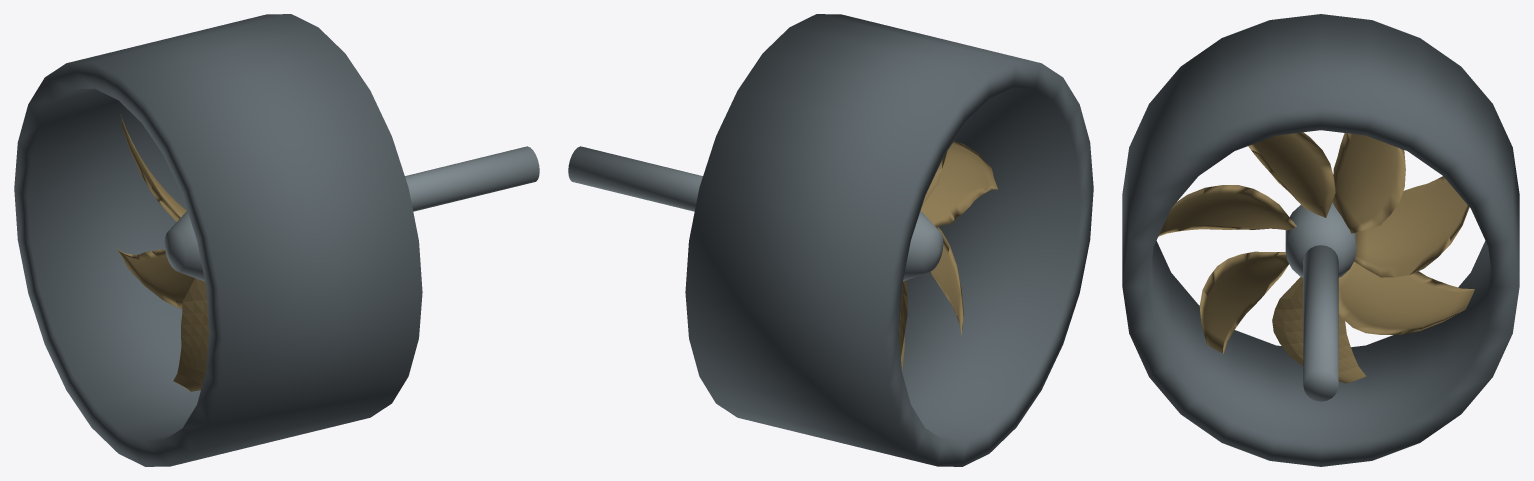
Rendered from RU_PROP_Typhoon_LOD1.fbx.
The picture shows the model from 3 angles, left to right: view 1: azimuth 30°, elevation 25°; view 2: azimuth 150°, elevation 25°; view 3: azimuth 270°, elevation 25°; orthographic projection. The views are drawn at different scales.
Parts seen in each view (by area): view 1: RU_PROP_Typhoon_LOD1_Shroud.001, RU_PROP_Typhoon_LOD1_Shaft.001, RU_PROP_Typhoon_LOD1_Blade_05.001, RU_PROP_Typhoon_LOD1_Blade_06.001, RU_PROP_Typhoon_LOD1_Hub.001, RU_PROP_Typhoon_LOD1_Blade_00.001; view 2: RU_PROP_Typhoon_LOD1_Shroud.001, RU_PROP_Typhoon_LOD1_Shaft.001, RU_PROP_Typhoon_LOD1_Blade_03.001, RU_PROP_Typhoon_LOD1_Hub.001, RU_PROP_Typhoon_LOD1_Blade_04.001, RU_PROP_Typhoon_LOD1_Blade_05.001; view 3: RU_PROP_Typhoon_LOD1_Shroud.001, RU_PROP_Typhoon_LOD1_Blade_00.001, RU_PROP_Typhoon_LOD1_Blade_06.001, RU_PROP_Typhoon_LOD1_Blade_01.001, RU_PROP_Typhoon_LOD1_Shaft.001, RU_PROP_Typhoon_LOD1_Blade_04.001, RU_PROP_Typhoon_LOD1_Blade_03.001, RU_PROP_Typhoon_LOD1_Blade_02.001, RU_PROP_Typhoon_LOD1_Hub.001, RU_PROP_Typhoon_LOD1_Blade_05.001.
Boxes of the visible parts, x1=… form: RU_PROP_Typhoon_LOD1_Shroud.001: x1=14, y1=14, x2=422, y2=466; RU_PROP_Typhoon_LOD1_Shaft.001: x1=405, y1=146, x2=539, y2=211; RU_PROP_Typhoon_LOD1_Blade_05.001: x1=173, y1=278, x2=209, y2=391; RU_PROP_Typhoon_LOD1_Blade_06.001: x1=116, y1=248, x2=194, y2=308; RU_PROP_Typhoon_LOD1_Hub.001: x1=164, y1=210, x2=204, y2=281; RU_PROP_Typhoon_LOD1_Blade_00.001: x1=120, y1=114, x2=186, y2=221; RU_PROP_Typhoon_LOD1_Shroud.001: x1=685, y1=14, x2=1093, y2=466; RU_PROP_Typhoon_LOD1_Shaft.001: x1=568, y1=146, x2=702, y2=211; RU_PROP_Typhoon_LOD1_Blade_03.001: x1=920, y1=141, x2=998, y2=226; RU_PROP_Typhoon_LOD1_Hub.001: x1=903, y1=210, x2=943, y2=281; RU_PROP_Typhoon_LOD1_Blade_04.001: x1=929, y1=226, x2=963, y2=336; RU_PROP_Typhoon_LOD1_Blade_05.001: x1=898, y1=280, x2=907, y2=370; RU_PROP_Typhoon_LOD1_Shroud.001: x1=1122, y1=14, x2=1519, y2=466; RU_PROP_Typhoon_LOD1_Blade_00.001: x1=1354, y1=176, x2=1469, y2=277; RU_PROP_Typhoon_LOD1_Blade_06.001: x1=1338, y1=261, x2=1474, y2=334; RU_PROP_Typhoon_LOD1_Blade_01.001: x1=1332, y1=133, x2=1405, y2=233; RU_PROP_Typhoon_LOD1_Shaft.001: x1=1303, y1=245, x2=1338, y2=401; RU_PROP_Typhoon_LOD1_Blade_04.001: x1=1199, y1=251, x2=1288, y2=353; RU_PROP_Typhoon_LOD1_Blade_03.001: x1=1158, y1=185, x2=1296, y2=236; RU_PROP_Typhoon_LOD1_Blade_02.001: x1=1248, y1=132, x2=1335, y2=217; RU_PROP_Typhoon_LOD1_Hub.001: x1=1285, y1=202, x2=1356, y2=277; RU_PROP_Typhoon_LOD1_Blade_05.001: x1=1272, y1=277, x2=1366, y2=383.
Size of the model in its own units: 800 by 700 by 700.
